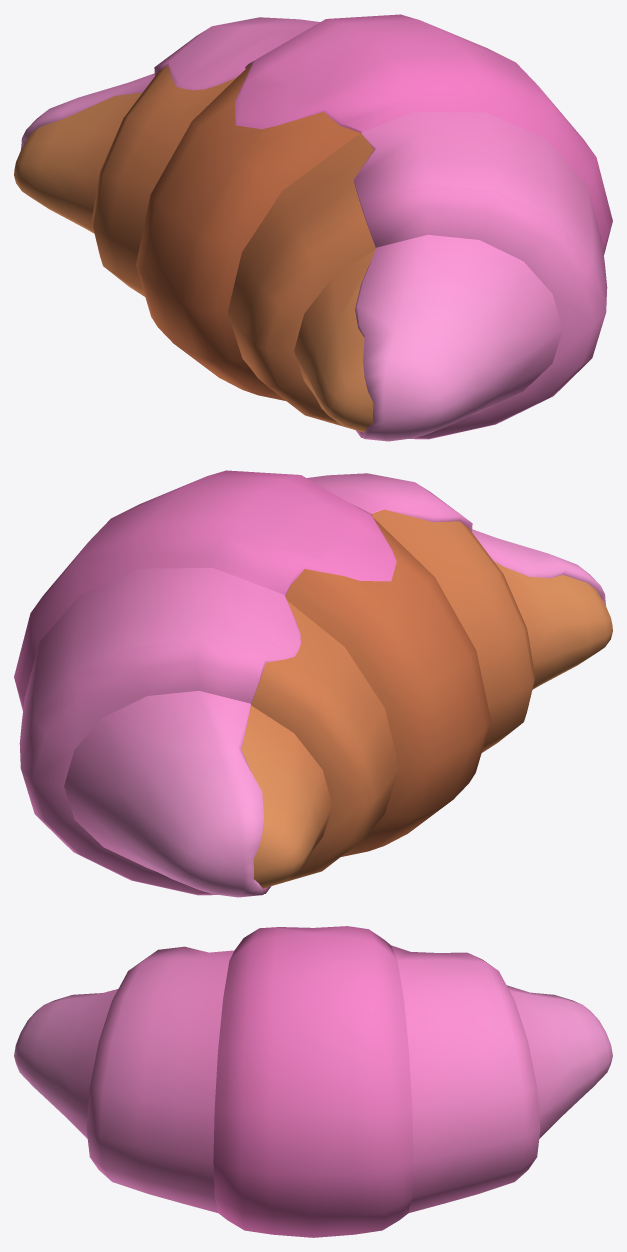
File: Croissant_V1_03.fbx
3 renders of one model, top to bottom at view 1: azimuth 30°, elevation 25°; view 2: azimuth 150°, elevation 25°; view 3: azimuth 270°, elevation 25°, orthographic. The views are drawn at different scales.
Parts seen in each view (by area): view 1: Croissant_V1_03; view 2: Croissant_V1_03; view 3: Croissant_V1_03.
Boxes of the visible parts, box(x1,y1,x2,y2) form: Croissant_V1_03: box(14, 14, 612, 441); Croissant_V1_03: box(14, 470, 612, 897); Croissant_V1_03: box(14, 926, 612, 1237).
Size of the model in its own units: 40 by 31.87 by 61.91.
